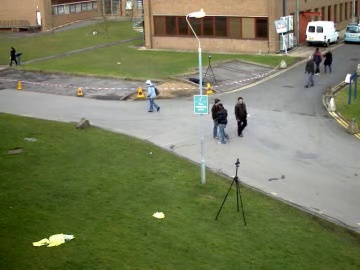person: (230, 96, 248, 139), (232, 96, 248, 139), (145, 80, 159, 112)
